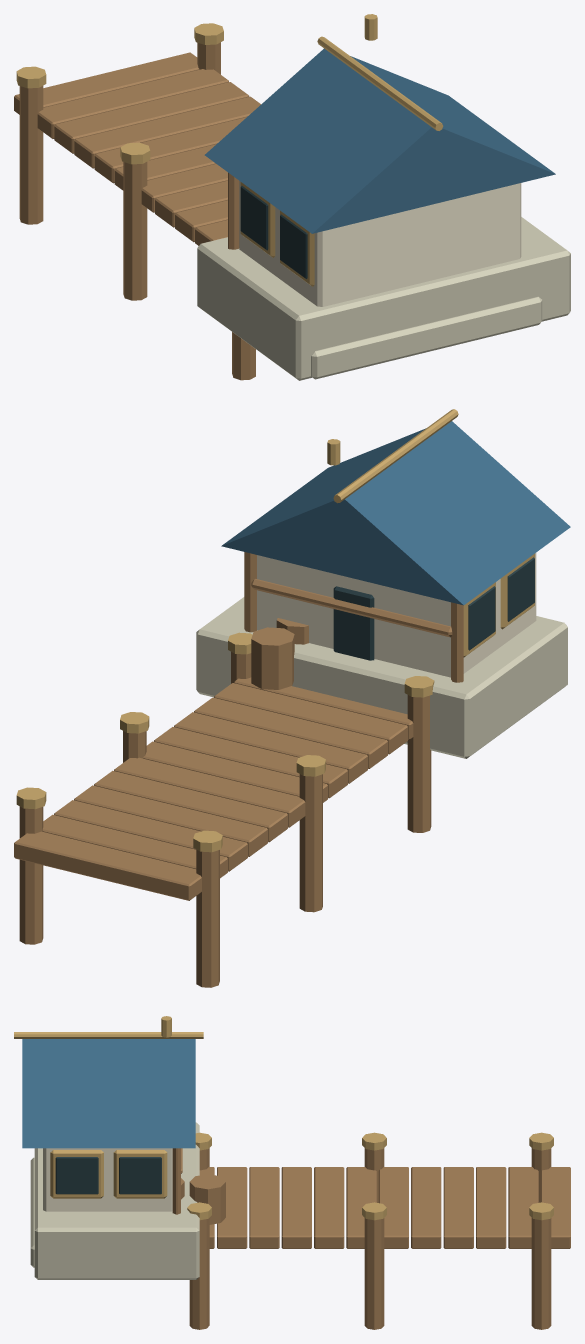
File: level_02.glb
3 views of the same model, one above another, from view 1: azimuth 30°, elevation 25°; view 2: azimuth 150°, elevation 25°; view 3: azimuth 270°, elevation 25° (orthographic). The views are drawn at different scales.
Parts seen in each view (by area): view 1: fishing_wharf — level 02; view 2: fishing_wharf — level 02; view 3: fishing_wharf — level 02.
Boxes of the visible parts, <box> form: fishing_wharf — level 02: <box>14,14,570,380</box>; fishing_wharf — level 02: <box>14,409,570,987</box>; fishing_wharf — level 02: <box>14,1016,570,1329</box>.
Bounding box in the file's own units: 3.1 × 3.74 × 6.75.
